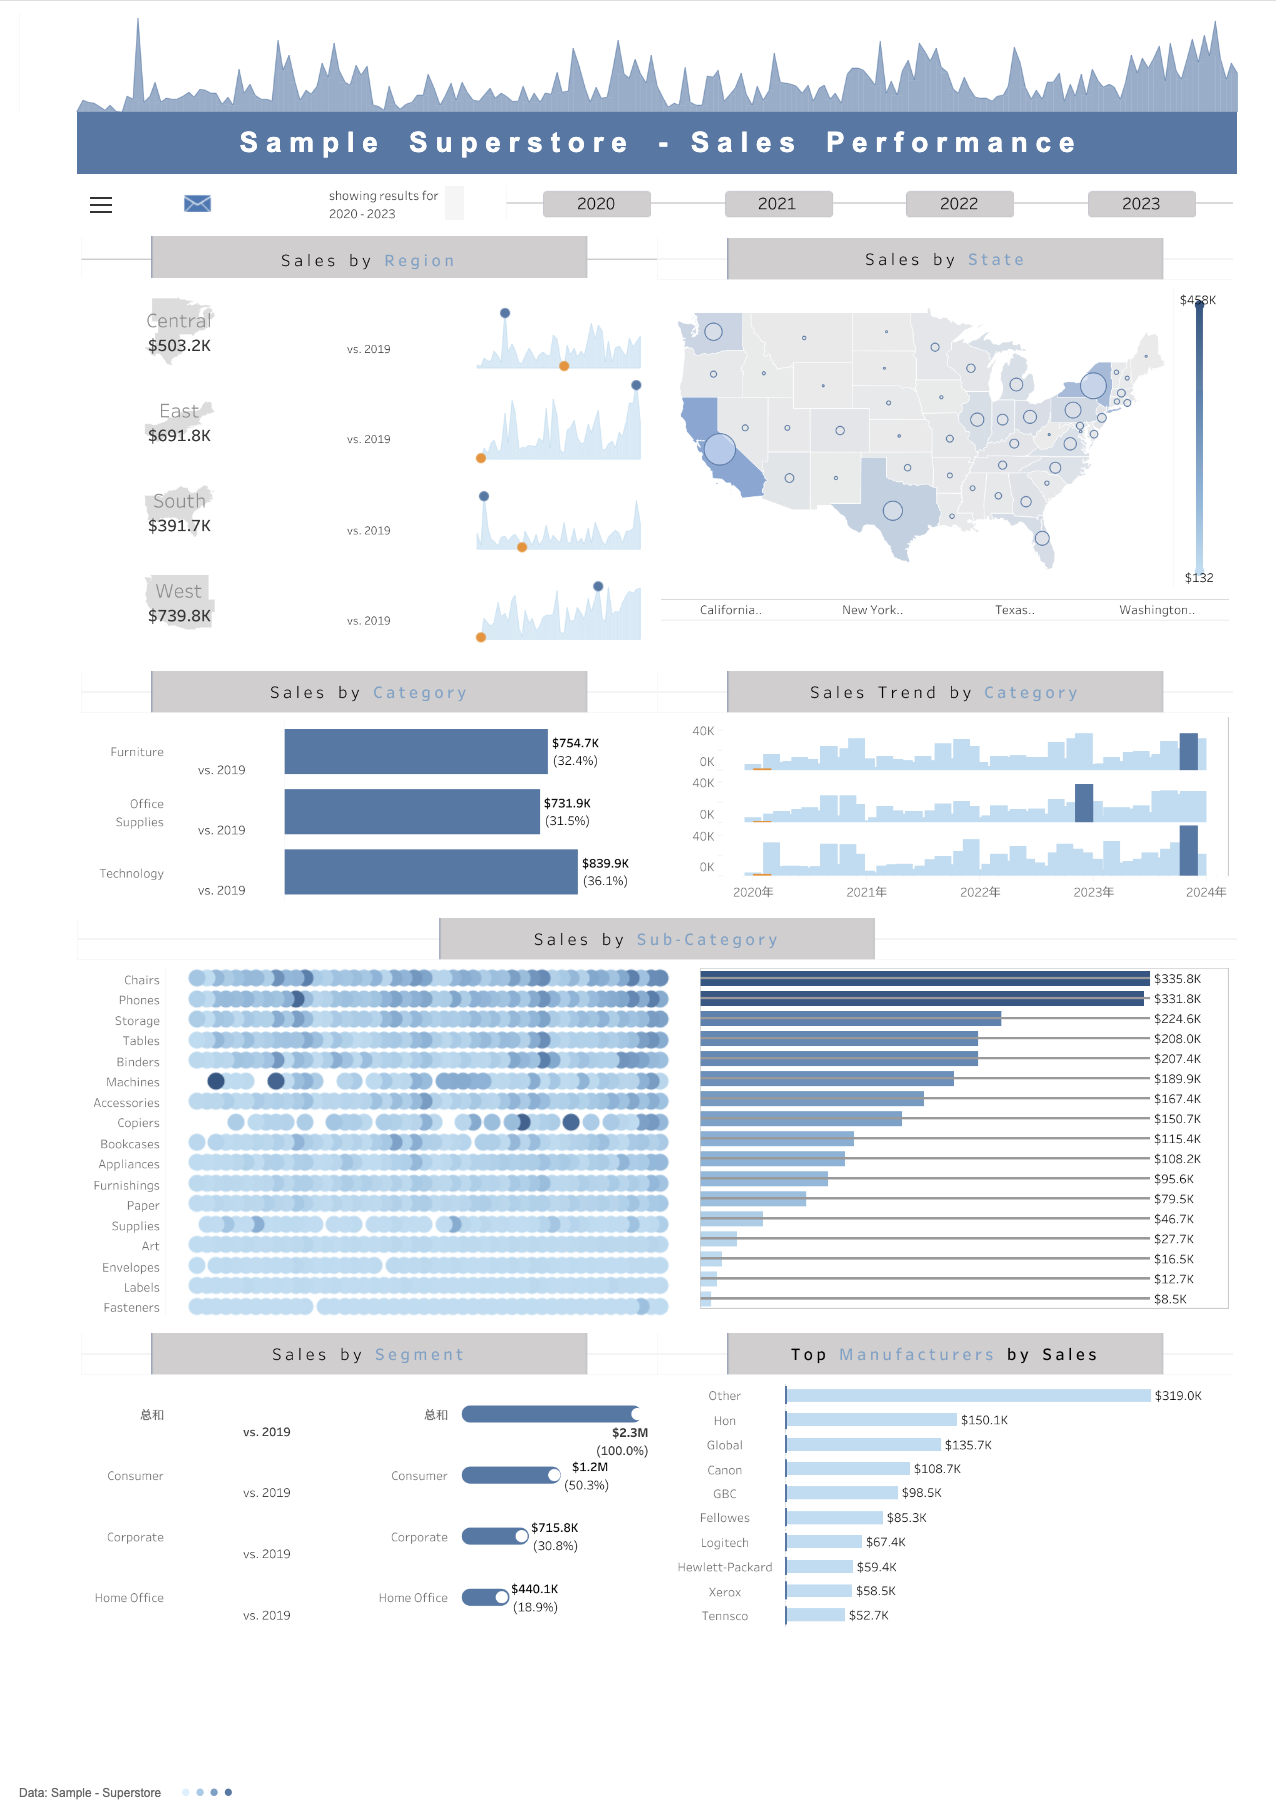

Layout of this report page (visuals, bound fields, positions):
{"tool":"tableau","page":{"name":"Dashboard 1","canvas":[1300,1850],"ordinal":0},"visuals":[{"type":"worksheet","title":"Weekly Sales Trend - Header","mark":"Area","rows":["Sales"],"cols":["Order Date"],"box":[8,8,1284,103]},{"type":"text","box":[8,111,1284,66]},{"type":"blank","box":[70,181,90,42]},{"type":"worksheet","title":"link","mark":"Shape","box":[160,181,154,42]},{"type":"worksheet","title":"indicator","mark":"Automatic","box":[314,181,181,42]},{"type":"worksheet","title":"0-1Year Filter - Buttons","mark":"Shape","rows":["Calculation_765119402140491777"],"cols":["Order Date"],"box":[495,181,735,42]},{"type":"dashboard-object","box":[82,192,24,24]},{"type":"text","box":[73,233,106,30]},{"type":"text","box":[179,233,134,30]},{"type":"text","box":[313,233,100,30]},{"type":"text","box":[413,233,107,30]},{"type":"text","box":[520,233,130,30]},{"type":"text","box":[650,233,98,30]},{"type":"text","box":[748,233,145,30]},{"type":"text","box":[893,233,142,30]},{"type":"text","box":[1035,233,191,30]},{"type":"worksheet","title":"Header","mark":"Shape","rows":["Calculation_765119402142130181"],"box":[74,234.9,576,42]},{"type":"worksheet","title":"Header (2)","mark":"Shape","rows":["Calculation_765119402142130181"],"box":[650,234.9,576,44]},{"type":"worksheet","title":"Sales Detail Table","mark":"Text","rows":["Order ID","Customer Name","Segment","State/Province","Postal Code","Category"],"cols":["Calculation_127226736539525127","Calculation_127226736539914249","Calculation_127226736540139531"],"box":[73,263,1153,562]},{"type":"worksheet","title":"Sales by Region","mark":"Multipolygon","rows":["Region"],"cols":["Calculation_765119402147807241","Calculation_765119402147807241"],"box":[78,280.9,189.3,369]},{"type":"worksheet","title":"YOY%-Region","mark":"Text","rows":["Region"],"cols":["Calculation_765119402158850063","Calculation_765119402158850063"],"box":[267.3,280.9,189.3,369]},{"type":"worksheet","title":"Monthly Sales Trend - Region","mark":"Area","rows":["Region","Sales"],"cols":["Order Date"],"box":[456.7,280.9,189.3,369]},{"type":"worksheet","title":"Sales by State-Map","mark":"Multipolygon","box":[654,282.9,508,307]},{"type":"worksheet","title":"Map - color legend","mark":"Line","rows":["Sales"],"box":[1162,282.9,60,307]},{"type":"worksheet","title":"Top Sales by States - KPI","mark":"Automatic","cols":["State/Province"],"box":[650,593.9,576,30]},{"type":"worksheet","title":"YOY% -Top States","mark":"Automatic","cols":["State/Province"],"box":[650,623.9,576,30]},{"type":"worksheet","title":"Header (3)","mark":"Shape","rows":["Calculation_765119402142130181"],"box":[74,669.9,576,42]},{"type":"worksheet","title":"Header (6)","mark":"Shape","rows":["Calculation_765119402142130181"],"box":[650,669.9,576,42]},{"type":"worksheet","title":"Monthly Sales Trend-Category","mark":"Bar","rows":["Category","Sales"],"cols":["Order Date"],"box":[650,711.9,576,197]},{"type":"worksheet","title":"YOY% - Category","mark":"Text","rows":["Category"],"cols":["Calculation_765119402222977054","Calculation_765119402222977054"],"box":[78,715.9,195,189]},{"type":"worksheet","title":"Sales by Category","mark":"Automatic","rows":["Category"],"cols":["Sales"],"box":[273,715.9,373,189]},{"type":"worksheet","title":"Header (4)","mark":"Shape","rows":["Calculation_765119402142130181"],"box":[70,916.9,1160,42]},{"type":"worksheet","title":"Sales by Sub-Category (HeatMap)","mark":"Circle","rows":["Sub-Category"],"cols":["Order Date"],"box":[74,962.9,615.5,357]},{"type":"worksheet","title":"Sales by Sub-Category","mark":"Bar","rows":["Sub-Category"],"cols":["Sales","Calculation_127226736437084161"],"box":[689.5,962.9,536.5,357]},{"type":"worksheet","title":"Header (5)","mark":"Shape","rows":["Calculation_765119402142130181"],"box":[74,1331.9,576,42]},{"type":"worksheet","title":"Header (7)","mark":"Shape","rows":["Calculation_765119402142130181"],"box":[650,1331.9,576,42]},{"type":"worksheet","title":"YOY%-Segment","mark":"Text","rows":["Segment"],"cols":["Calculation_765119402222977054","Calculation_765119402222977054"],"box":[78,1377.9,284,252]},{"type":"worksheet","title":"Sales by Segment","mark":"Line","rows":["Segment"],"cols":["Sales"],"box":[362,1377.9,284,252]},{"type":"worksheet","title":"Top Manufacturers by Sales","mark":"Automatic","cols":["Sales","Calculation_127226736447909893"],"box":[654,1377.9,568,251.9]},{"type":"blank","box":[70,1645.9,1160,30]},{"type":"text","box":[8,1679.9,1284,123]}]}

Visuals, with their boxes in screenshot pixels (x1, y1, x2, y2), scaled from the page's 1300x1850 canvas onto the 1276x1818 screenshot:
"Weekly Sales Trend - Header" worksheet (Area marks): box=[8, 8, 1268, 109]
text: box=[8, 109, 1268, 174]
blank: box=[69, 178, 157, 219]
"link" worksheet (Shape marks): box=[157, 178, 308, 219]
"indicator" worksheet: box=[308, 178, 486, 219]
"0-1Year Filter - Buttons" worksheet (Shape marks): box=[486, 178, 1207, 219]
dashboard-object: box=[80, 189, 104, 212]
text: box=[72, 229, 176, 258]
text: box=[176, 229, 307, 258]
text: box=[307, 229, 405, 258]
text: box=[405, 229, 510, 258]
text: box=[510, 229, 638, 258]
text: box=[638, 229, 734, 258]
text: box=[734, 229, 877, 258]
text: box=[877, 229, 1016, 258]
text: box=[1016, 229, 1203, 258]
"Header" worksheet (Shape marks): box=[73, 231, 638, 272]
"Header (2)" worksheet (Shape marks): box=[638, 231, 1203, 274]
"Sales Detail Table" worksheet (Text marks): box=[72, 258, 1203, 811]
"Sales by Region" worksheet (Multipolygon marks): box=[77, 276, 262, 639]
"YOY%-Region" worksheet (Text marks): box=[262, 276, 448, 639]
"Monthly Sales Trend - Region" worksheet (Area marks): box=[448, 276, 634, 639]
"Sales by State-Map" worksheet (Multipolygon marks): box=[642, 278, 1141, 580]
"Map - color legend" worksheet (Line marks): box=[1141, 278, 1199, 580]
"Top Sales by States - KPI" worksheet: box=[638, 584, 1203, 613]
"YOY% -Top States" worksheet: box=[638, 613, 1203, 643]
"Header (3)" worksheet (Shape marks): box=[73, 658, 638, 700]
"Header (6)" worksheet (Shape marks): box=[638, 658, 1203, 700]
"Monthly Sales Trend-Category" worksheet (Bar marks): box=[638, 700, 1203, 893]
"YOY% - Category" worksheet (Text marks): box=[77, 704, 268, 889]
"Sales by Category" worksheet: box=[268, 704, 634, 889]
"Header (4)" worksheet (Shape marks): box=[69, 901, 1207, 942]
"Sales by Sub-Category (HeatMap)" worksheet (Circle marks): box=[73, 946, 677, 1297]
"Sales by Sub-Category" worksheet (Bar marks): box=[677, 946, 1203, 1297]
"Header (5)" worksheet (Shape marks): box=[73, 1309, 638, 1350]
"Header (7)" worksheet (Shape marks): box=[638, 1309, 1203, 1350]
"YOY%-Segment" worksheet (Text marks): box=[77, 1354, 355, 1602]
"Sales by Segment" worksheet (Line marks): box=[355, 1354, 634, 1602]
"Top Manufacturers by Sales" worksheet: box=[642, 1354, 1199, 1602]
blank: box=[69, 1617, 1207, 1647]
text: box=[8, 1651, 1268, 1772]
